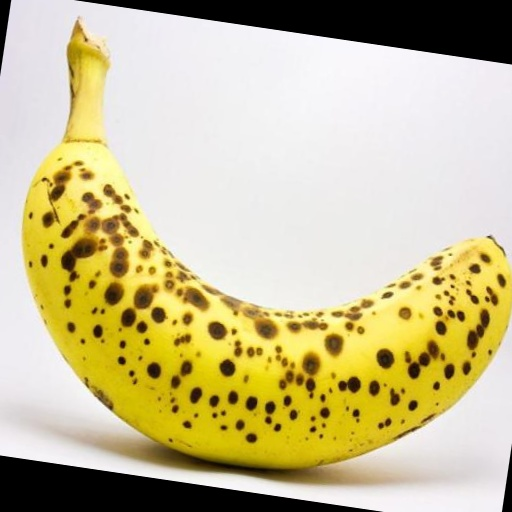fruit: (22, 22, 512, 468)
